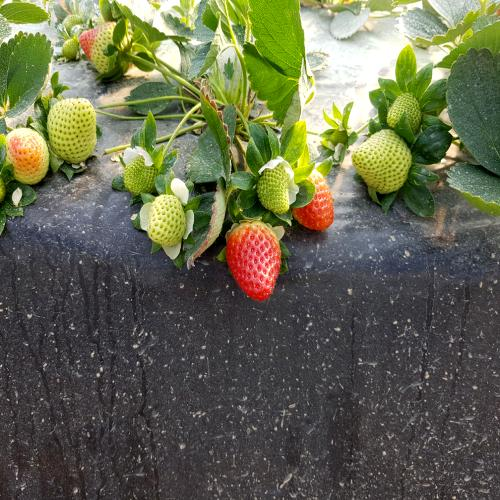ripe: (218, 214, 287, 309)
unripe: (343, 126, 415, 191), (47, 94, 101, 168)
